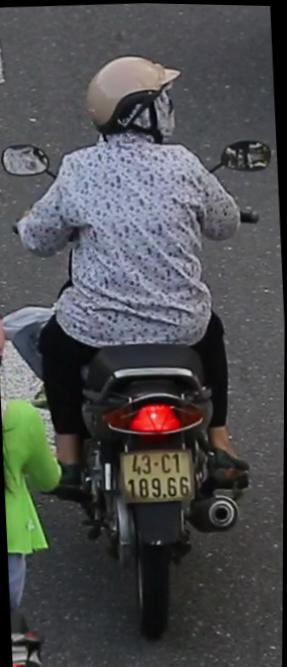LP: (119, 439, 198, 506)
helmet: (80, 45, 189, 153)
